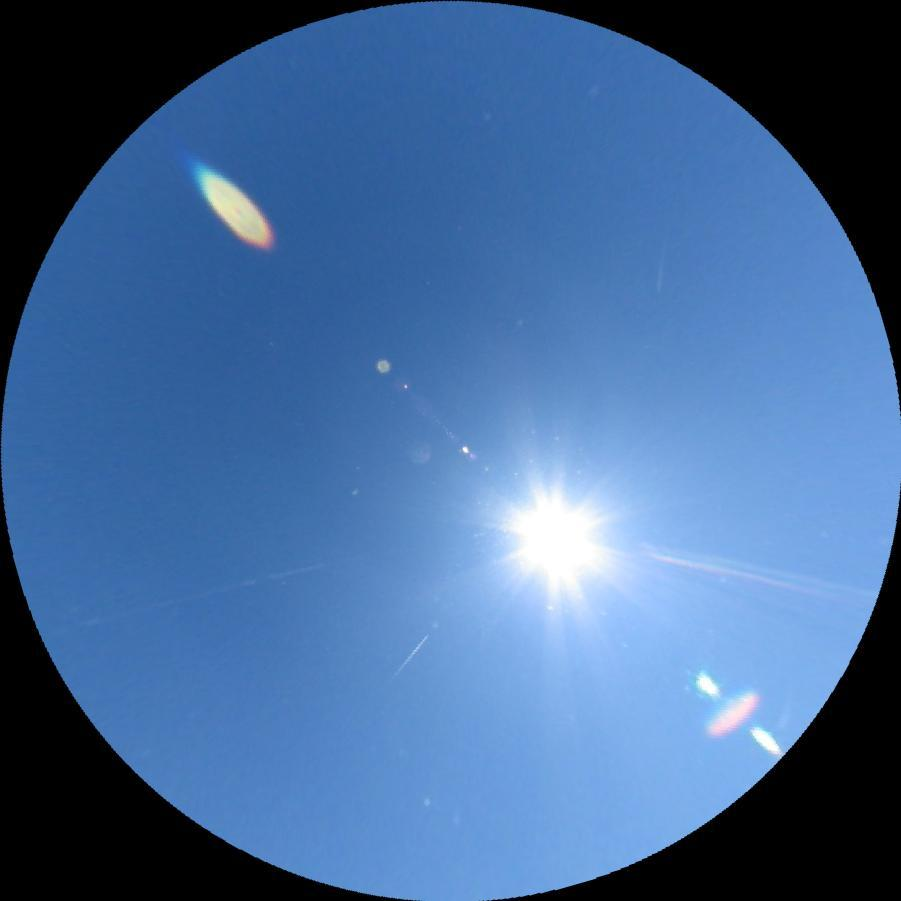contrail young: (389, 632, 430, 680), (776, 689, 794, 731), (655, 228, 666, 290)
parasite: (47, 557, 325, 640), (648, 551, 875, 608)
sun: (499, 482, 610, 593)
